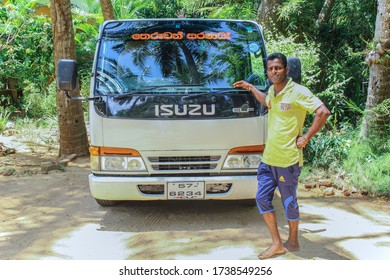truck: (87, 18, 270, 207)
